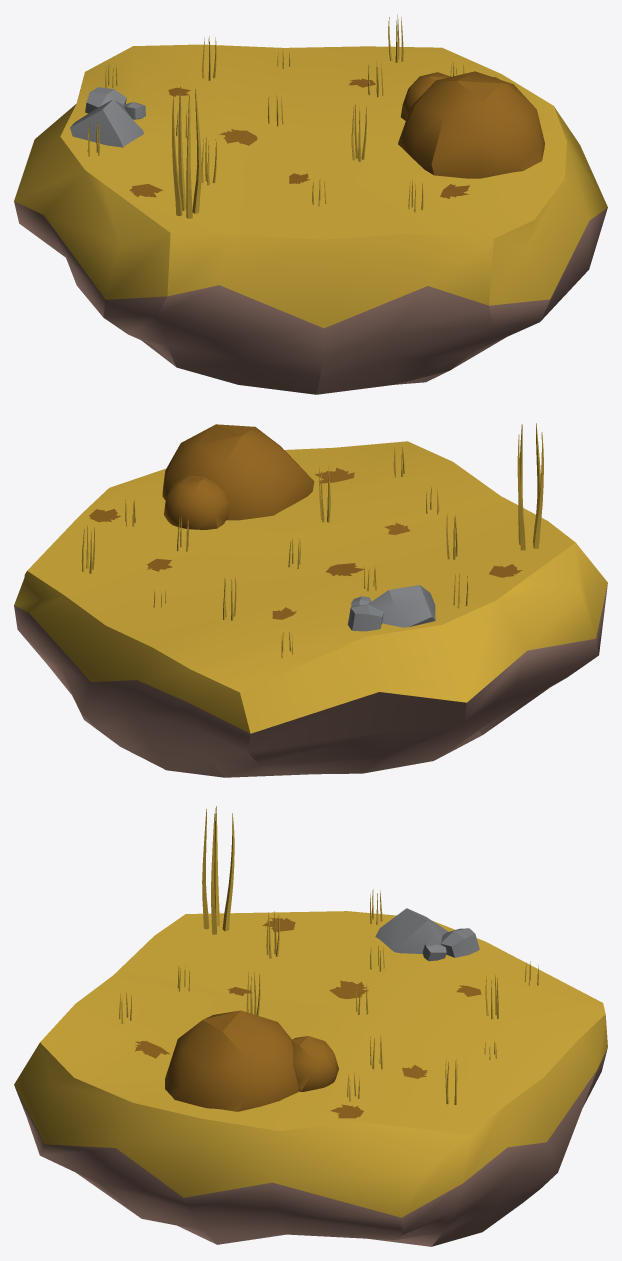
Rendered from small_island_fall_1.fbx.
3 views of the same model, one above another, from view 1: azimuth 30°, elevation 25°; view 2: azimuth 150°, elevation 25°; view 3: azimuth 270°, elevation 25° (orthographic). The views are drawn at different scales.
Parts seen in each view (by area): view 1: Island_Autumn_1.001; view 2: Island_Autumn_1.001; view 3: Island_Autumn_1.001.
Boxes of the visible parts, x1,y1,x2,y2 form: Island_Autumn_1.001: (14, 14, 607, 394); Island_Autumn_1.001: (14, 423, 607, 777); Island_Autumn_1.001: (14, 806, 607, 1246).
Bounding box in the file's own units: 228 × 149 × 241.
